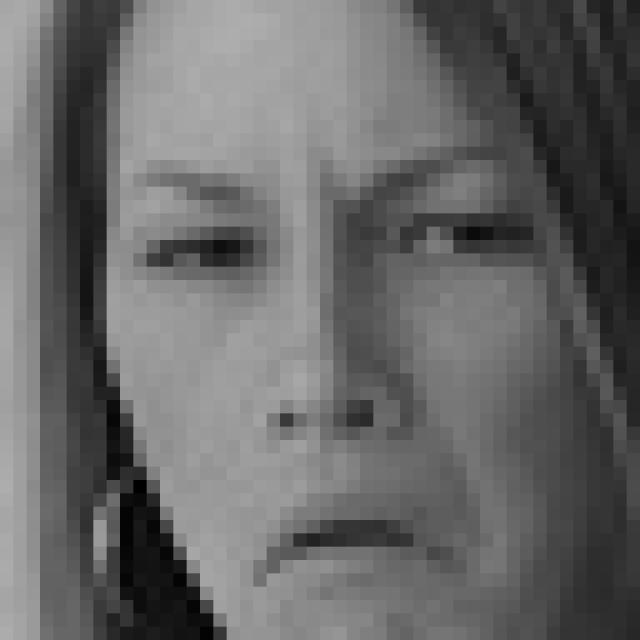disgust: (125, 153, 536, 618)
